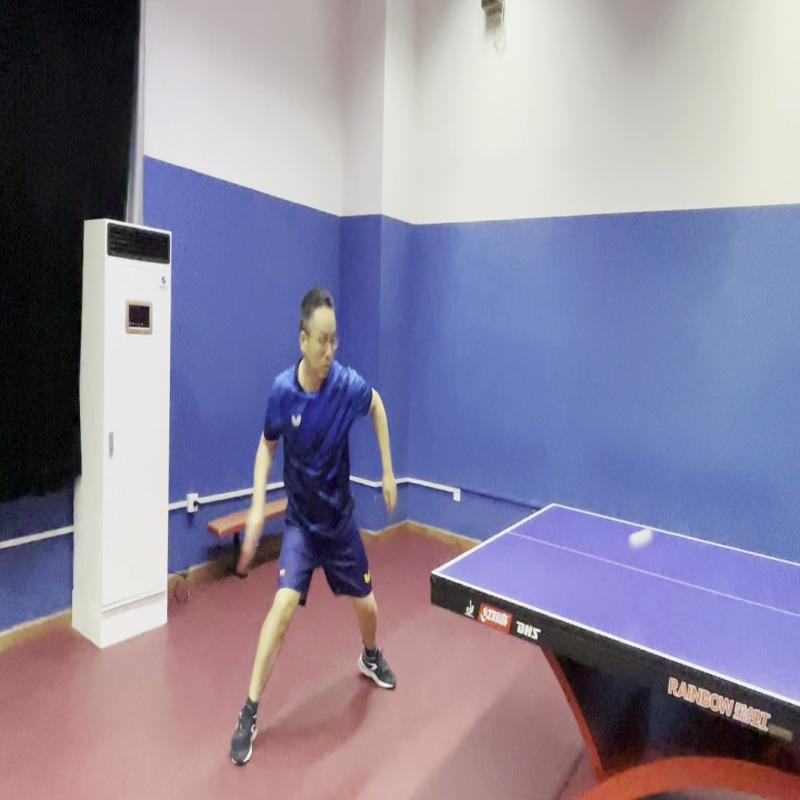bats: (239, 528, 267, 586)
